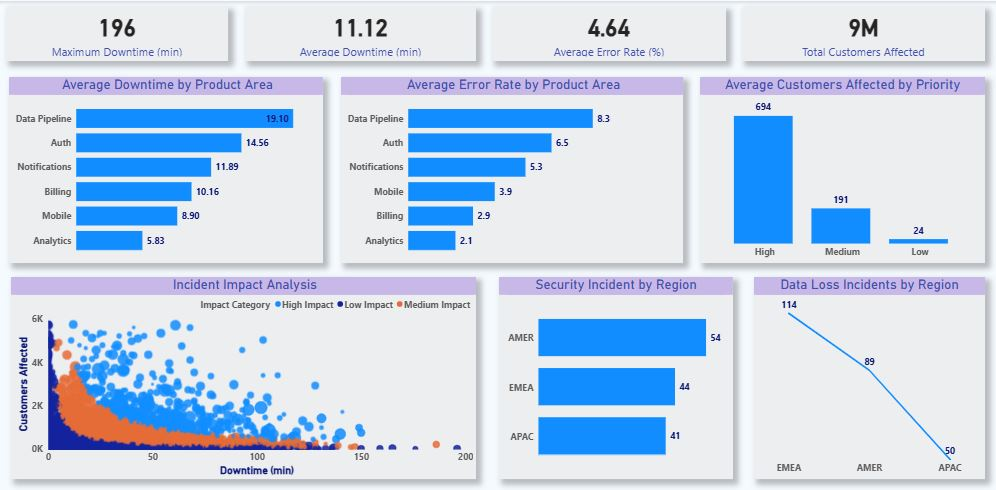

Layout of this report page (visuals, bound fields, positions):
{"tool":"powerbi","page":{"name":"Incident Impact Analysis","canvas":[1800,900],"ordinal":1},"visuals":[{"type":"card","fields":{"Values":["Worksheet.Average Downtime"]},"box":[442.8,10.8,415.8,97.2],"z":0},{"type":"card","fields":{"Values":["Worksheet.Average Error Rate (%)"]},"box":[887.4,10.8,421.2,97.2],"z":1000},{"type":"card","fields":{"Values":["Worksheet.Total Customers Affected"]},"box":[1337.4,10.8,437.4,97.2],"z":2000},{"type":"card","fields":{"Values":["Worksheet.Maximum Downtime (min)"]},"box":[12.6,10.8,399.6,97.2],"z":3000},{"type":"clusteredBarChart","title":"Average Downtime by Product Area","fields":{"Category":["Worksheet.product_area"],"Y":["Avg(Worksheet.downtime_min)"]},"box":[18,136.8,565.2,334.8],"z":4000},{"type":"clusteredBarChart","title":"Average Error Rate by Product Area","fields":{"Category":["Worksheet.product_area"],"Y":["Avg(Worksheet.error_rate_pct)"]},"box":[615.6,136.8,615.6,334.8],"z":5000},{"type":"clusteredColumnChart","title":"Average Customers Affected by Priority","fields":{"Category":["Worksheet.priority"],"Y":["Avg(Worksheet.customers_affected)"]},"box":[1261.8,136.8,513,334.8],"z":6000},{"type":"scatterChart","title":"Incident Impact Analysis","fields":{"X":["Worksheet.downtime_min"],"Y":["Worksheet.customers_affected"],"Size":["Avg(Worksheet.error_rate_pct)"],"Series":["Worksheet.Impact_Category"]},"box":[21.6,496.8,837,363.6],"z":7000},{"type":"clusteredBarChart","title":"Security Incident by Region","fields":{"Category":["Worksheet.region"],"Y":["Sum(Worksheet.security_incident_flag)"]},"box":[900,496.8,421.2,363.6],"z":8000},{"type":"lineChart","title":"Data Loss Incidents by Region","fields":{"Category":["Worksheet.region"],"Y":["Sum(Worksheet.data_loss_flag)"]},"box":[1359,496.8,415.8,363.6],"z":9000}]}

Visuals, with their boxes in screenshot pixels (x1, y1, x2, y2), scaled from the page's 1800x900 canvas onto the 996x490 screenshot:
card - Worksheet.Average Downtime: x1=245, y1=6, x2=475, y2=59
card - Worksheet.Average Error Rate (%): x1=491, y1=6, x2=724, y2=59
card - Worksheet.Total Customers Affected: x1=740, y1=6, x2=982, y2=59
card - Worksheet.Maximum Downtime (min): x1=7, y1=6, x2=228, y2=59
"Average Downtime by Product Area" clusteredBarChart: x1=10, y1=74, x2=323, y2=257
"Average Error Rate by Product Area" clusteredBarChart: x1=341, y1=74, x2=681, y2=257
"Average Customers Affected by Priority" clusteredColumnChart: x1=698, y1=74, x2=982, y2=257
"Incident Impact Analysis" scatterChart: x1=12, y1=270, x2=475, y2=468
"Security Incident by Region" clusteredBarChart: x1=498, y1=270, x2=731, y2=468
"Data Loss Incidents by Region" lineChart: x1=752, y1=270, x2=982, y2=468
